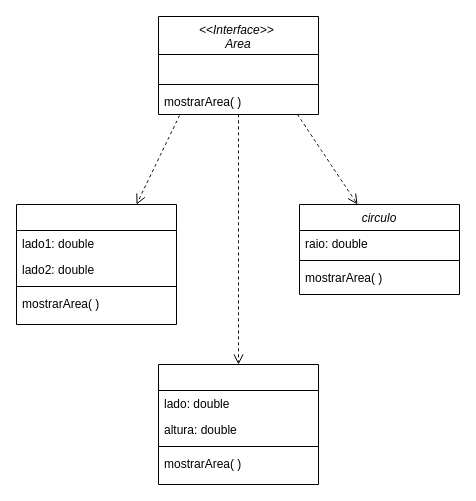
The diagram is 476 pixels wide and 501 high, and some of its shapes have lost their labels. Here are the shapes that lost their labels. From the top down, the box of each, then its label:
(16, 204, 176, 324): retangulo
(158, 364, 318, 484): triangulo
